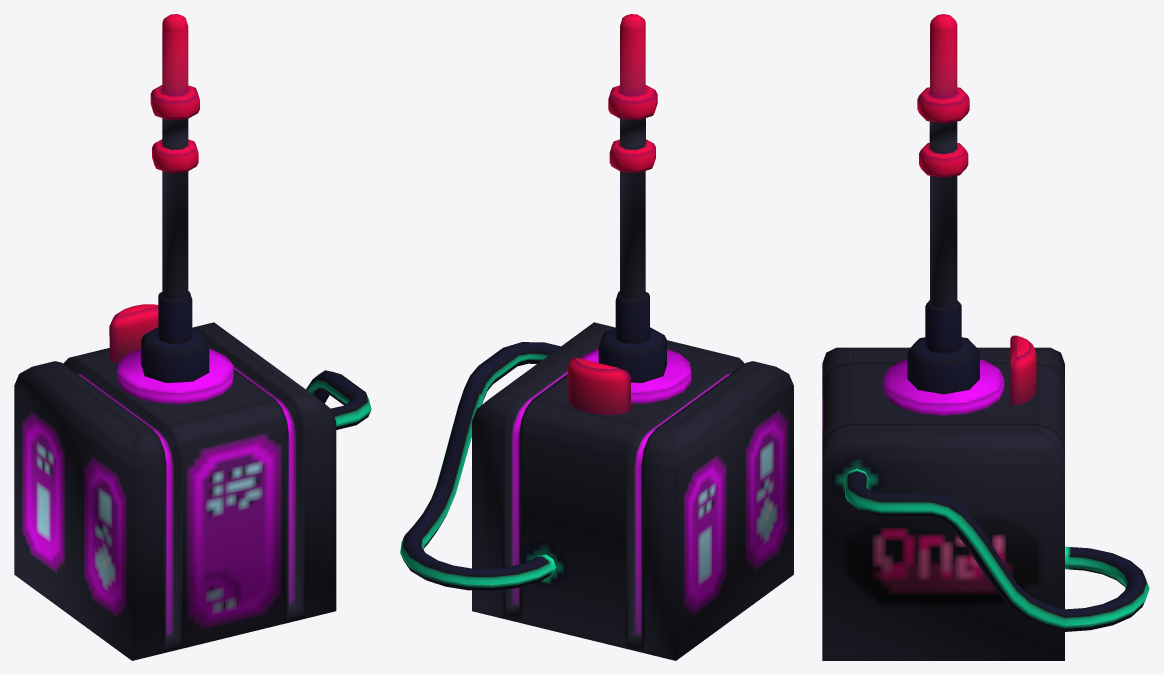
File: electric_tower.glb
3 views of the same model, side by side, from view 1: azimuth 30°, elevation 25°; view 2: azimuth 150°, elevation 25°; view 3: azimuth 270°, elevation 25° (orthographic). The views are drawn at different scales.
Parts seen in each view (by area): view 1: electric_tower_triangulated; view 2: electric_tower_triangulated; view 3: electric_tower_triangulated.
Boxes of the visible parts, x1,y1,x2,y2 form: electric_tower_triangulated: (14, 14, 371, 660); electric_tower_triangulated: (400, 14, 793, 660); electric_tower_triangulated: (822, 14, 1149, 660).
Size of the model in its own units: 1.3 by 2.7 by 1.35.
1 material, 1 textured.
